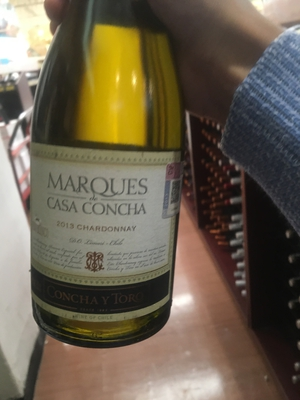marques de casa concha chardonnay: (22, 18, 196, 345)
